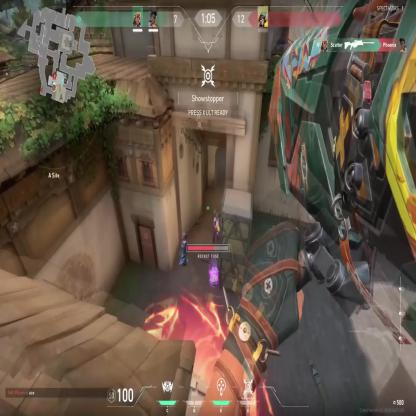enemy: (210, 216, 221, 246)
enemy_head: (214, 216, 216, 222)
